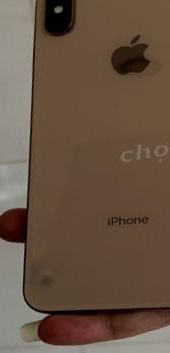scratch: (4, 254, 81, 306)
